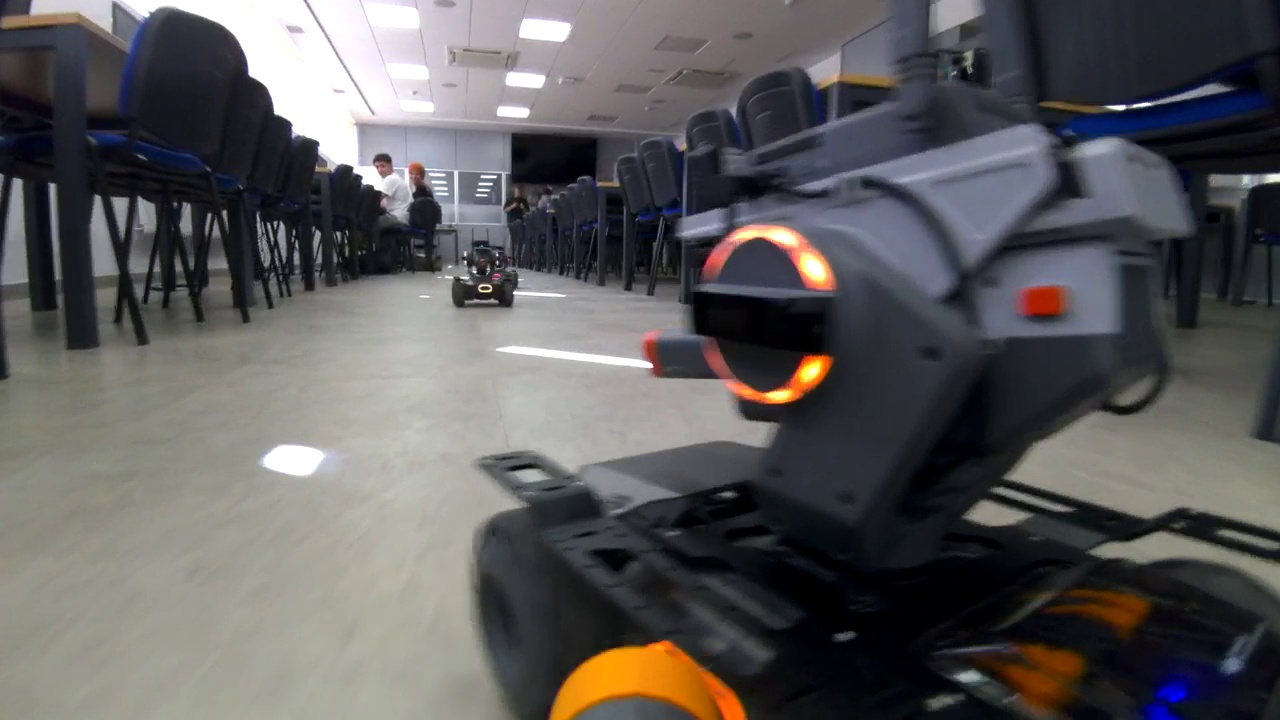robot: (487, 105, 1280, 720), (449, 237, 521, 311)
